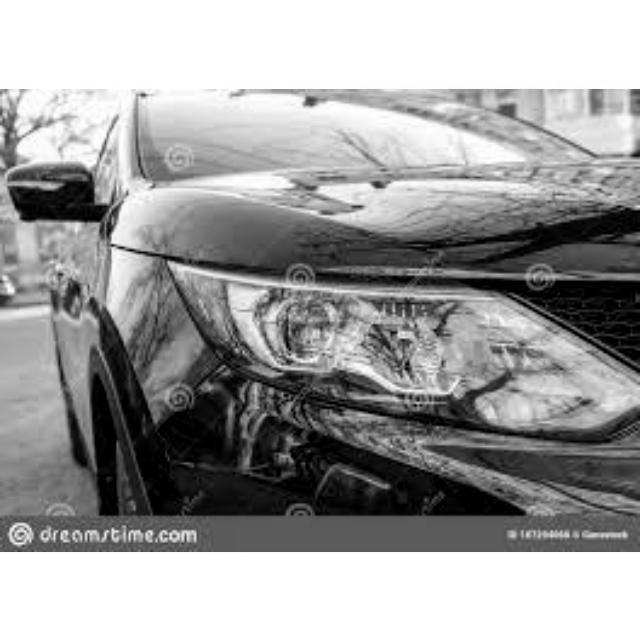front-bumper-dent: (136, 370, 526, 517)
